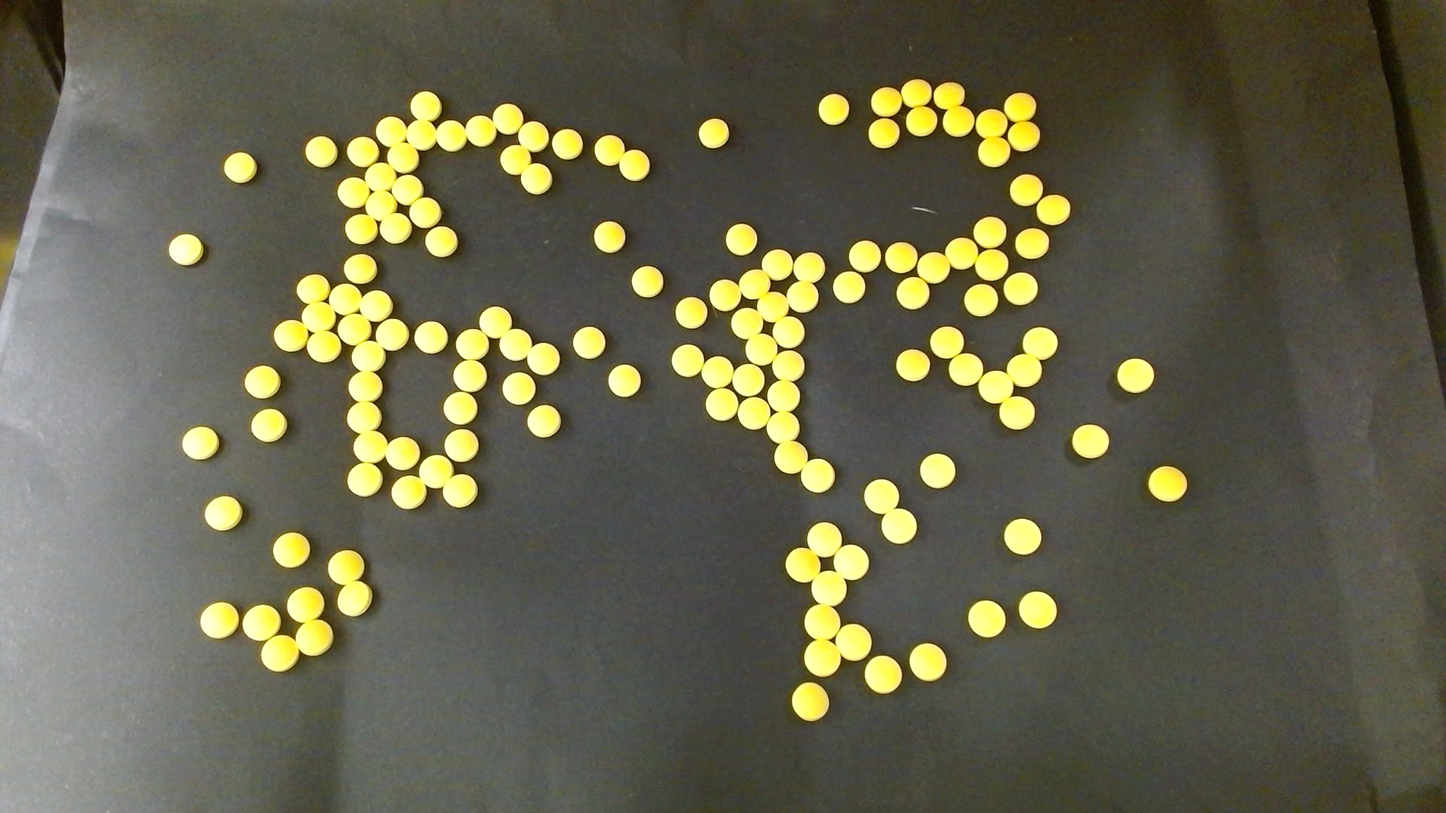Circle: (1018, 591, 1057, 629), (199, 601, 238, 639), (1147, 465, 1187, 502), (1003, 518, 1041, 556), (792, 681, 829, 720), (864, 655, 901, 693), (967, 600, 1004, 638), (910, 643, 947, 681), (272, 531, 310, 568), (295, 620, 334, 656), (203, 495, 242, 531), (287, 586, 324, 623), (1116, 358, 1154, 394), (999, 395, 1036, 431), (261, 635, 298, 671), (1071, 423, 1109, 458), (181, 426, 219, 461), (347, 461, 383, 497), (835, 623, 871, 659), (804, 639, 840, 675), (384, 435, 419, 472), (336, 580, 371, 617), (920, 452, 955, 489), (881, 509, 917, 544), (243, 605, 279, 640), (804, 604, 839, 639), (833, 544, 868, 579), (328, 550, 364, 584), (251, 409, 287, 443), (864, 478, 898, 513), (1003, 272, 1038, 306), (391, 476, 426, 510), (806, 522, 841, 556), (811, 571, 846, 605), (168, 233, 204, 266), (443, 391, 477, 425), (443, 474, 477, 508), (1022, 326, 1057, 359), (801, 458, 834, 493), (273, 319, 308, 352), (347, 400, 382, 433), (244, 365, 279, 398), (453, 358, 487, 391), (337, 312, 371, 345), (774, 440, 808, 473), (413, 321, 447, 354), (419, 455, 453, 488), (527, 404, 561, 437), (785, 549, 819, 582), (572, 325, 606, 358), (1008, 352, 1041, 385), (502, 372, 535, 405), (608, 364, 641, 397), (593, 220, 626, 253), (352, 430, 386, 462), (343, 252, 377, 284), (386, 142, 420, 174), (1036, 193, 1070, 225), (895, 349, 929, 381), (738, 396, 770, 429), (307, 330, 340, 362), (375, 318, 408, 350), (964, 283, 997, 315), (301, 300, 334, 332), (897, 277, 930, 309), (948, 353, 981, 385), (705, 388, 737, 421), (979, 371, 1012, 403), (1010, 173, 1042, 206), (478, 306, 511, 338), (631, 265, 664, 297), (223, 151, 256, 183), (349, 370, 383, 401), (358, 291, 392, 322), (930, 325, 964, 356), (675, 297, 707, 329), (456, 328, 488, 360), (672, 343, 704, 375), (975, 249, 1008, 280), (771, 315, 804, 346), (352, 340, 385, 371), (444, 430, 477, 461), (731, 307, 764, 338), (761, 249, 794, 280), (304, 136, 337, 167), (425, 226, 458, 257), (885, 242, 917, 273), (701, 356, 732, 388), (379, 213, 411, 244), (848, 240, 880, 271), (409, 197, 441, 228), (975, 215, 1006, 247), (833, 271, 864, 303), (337, 176, 369, 207), (792, 251, 824, 282), (492, 102, 523, 134), (725, 223, 757, 254), (697, 117, 729, 148), (344, 214, 377, 244), (329, 282, 362, 312), (1015, 229, 1048, 259), (296, 273, 329, 303), (733, 363, 764, 394), (517, 120, 548, 151), (942, 105, 973, 136), (435, 120, 466, 151), (709, 279, 740, 310), (528, 343, 559, 374), (619, 150, 650, 181), (520, 163, 551, 194), (1008, 120, 1039, 151), (786, 279, 817, 310), (818, 93, 849, 124), (410, 90, 441, 121), (767, 379, 797, 411), (772, 350, 804, 380), (978, 136, 1010, 166), (391, 174, 423, 204), (739, 268, 771, 298), (745, 334, 776, 364), (945, 238, 976, 268), (767, 413, 798, 443), (501, 328, 532, 358), (346, 136, 377, 166), (365, 190, 396, 220), (917, 252, 948, 282), (376, 116, 407, 146), (595, 134, 625, 165), (757, 292, 789, 321), (1004, 91, 1036, 120), (868, 118, 898, 148), (552, 129, 582, 159), (906, 106, 936, 136), (500, 144, 530, 174), (465, 115, 495, 145), (978, 108, 1008, 137), (901, 78, 931, 107), (407, 119, 436, 149), (933, 81, 964, 109), (871, 87, 901, 115), (365, 162, 395, 190)
